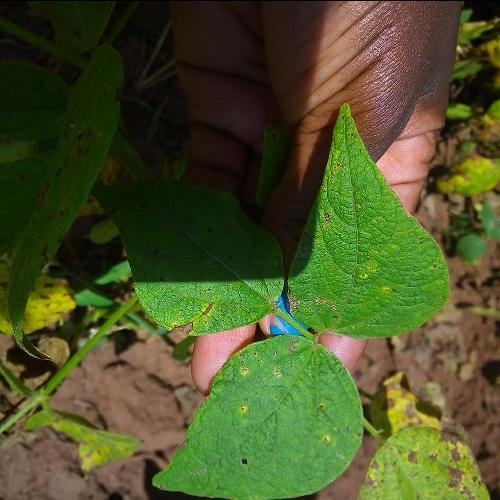hawar: (277, 292, 344, 326), (166, 300, 220, 333), (234, 451, 252, 470), (316, 210, 332, 228)
mozaik: (215, 359, 342, 449), (355, 234, 430, 317)
